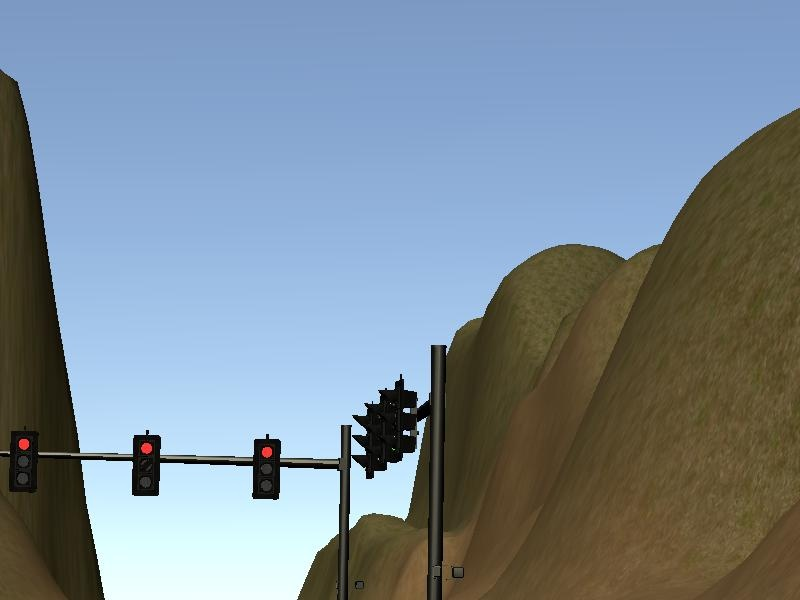red: (6, 424, 40, 500), (129, 429, 165, 500), (247, 434, 284, 502)
